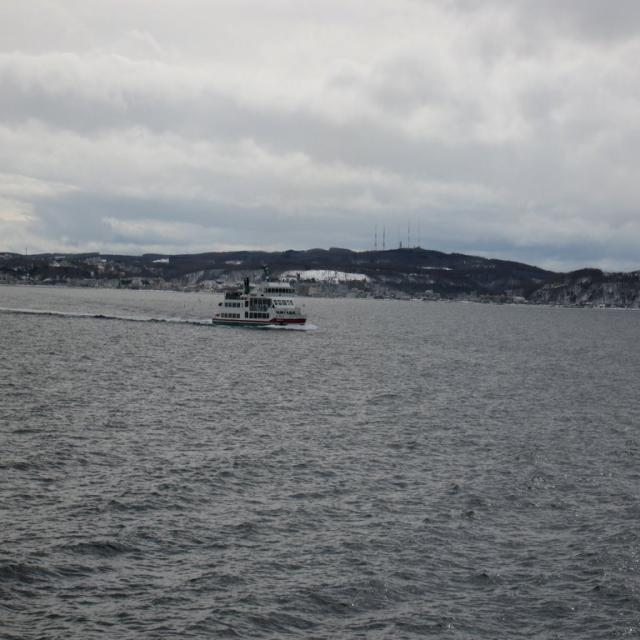passenger ship: (207, 282, 300, 331)
